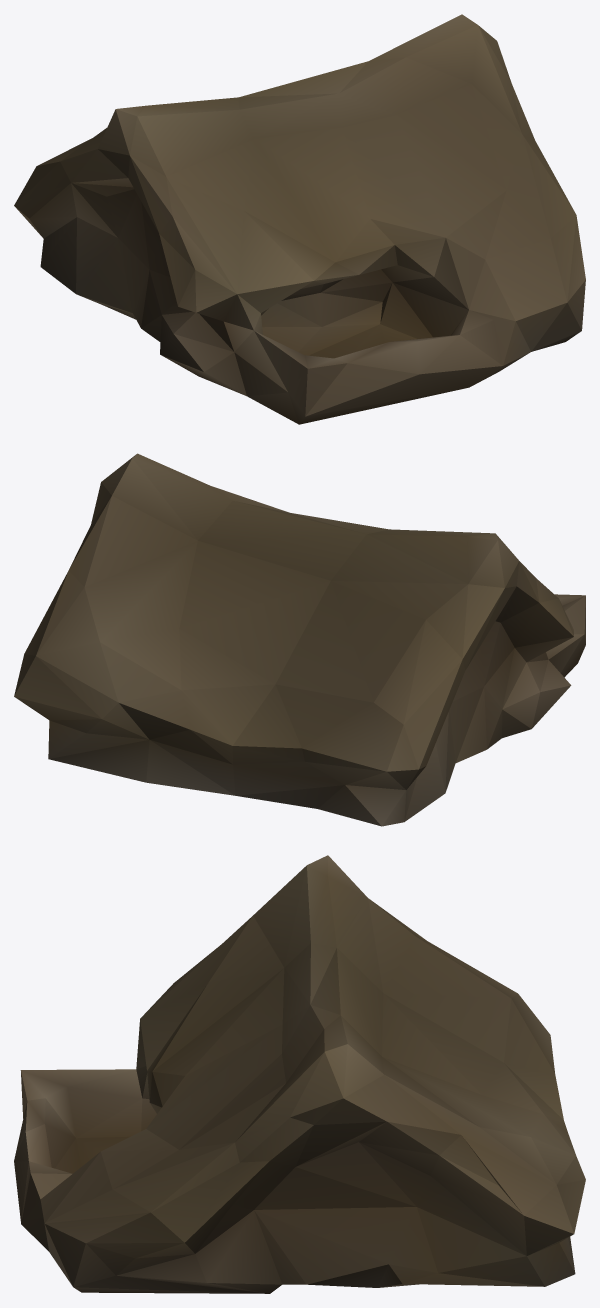
The model's file is pasture.glb.
The picture shows the model from 3 angles, top to bottom: view 1: azimuth 30°, elevation 25°; view 2: azimuth 150°, elevation 25°; view 3: azimuth 270°, elevation 25°; orthographic projection. The views are drawn at different scales.
Parts seen in each view (by area): view 1: model.001; view 2: model.001; view 3: model.001.
Part boxes in pixels (bbox=[...]): model.001: bbox=[14, 14, 585, 424]; model.001: bbox=[14, 453, 585, 826]; model.001: bbox=[14, 855, 585, 1293].
Bounding box in the file's own units: 0.911 × 0.5184 × 1.02.
